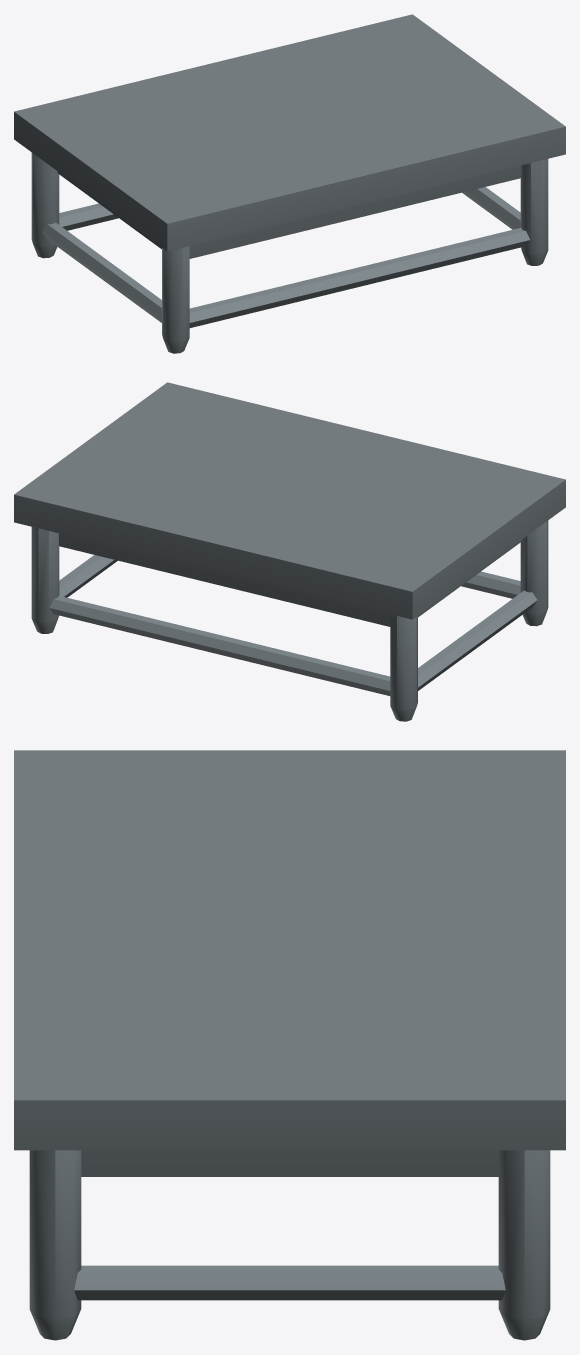
File: kitchentable_A_large.obj
3 renders of one model, top to bottom at view 1: azimuth 30°, elevation 25°; view 2: azimuth 150°, elevation 25°; view 3: azimuth 270°, elevation 25°, orthographic. The views are drawn at different scales.
Visible parts, largest first — view 1: kitchentable_A_large_Cube.180; view 2: kitchentable_A_large_Cube.180; view 3: kitchentable_A_large_Cube.180.
Part boxes in pixels (bbox=[...]): kitchentable_A_large_Cube.180: bbox=[14, 14, 565, 353]; kitchentable_A_large_Cube.180: bbox=[14, 382, 565, 721]; kitchentable_A_large_Cube.180: bbox=[14, 750, 565, 1340].
Bounding box in the file's own units: 3 × 1 × 2.
1 material, 1 textured.
